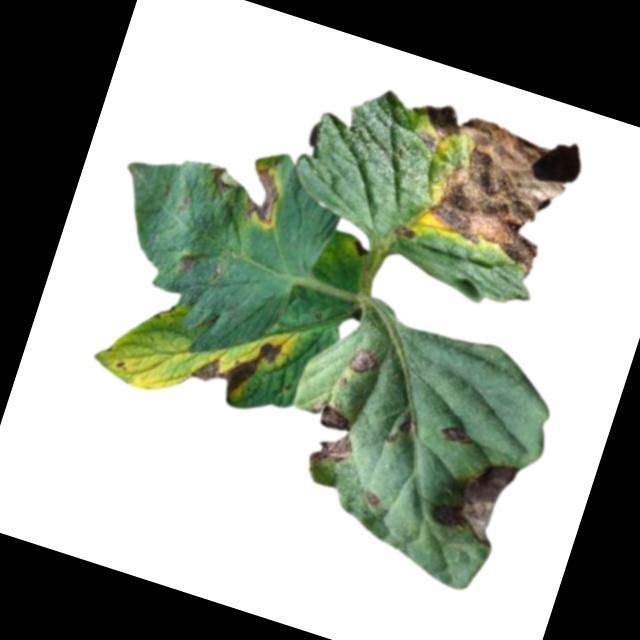Early_blight: (375, 92, 589, 285), (184, 309, 297, 415), (429, 444, 522, 549), (197, 144, 293, 230), (284, 393, 365, 472), (434, 417, 476, 450), (348, 340, 382, 379), (174, 250, 198, 275), (397, 414, 418, 437), (351, 237, 370, 257), (363, 489, 383, 507)
